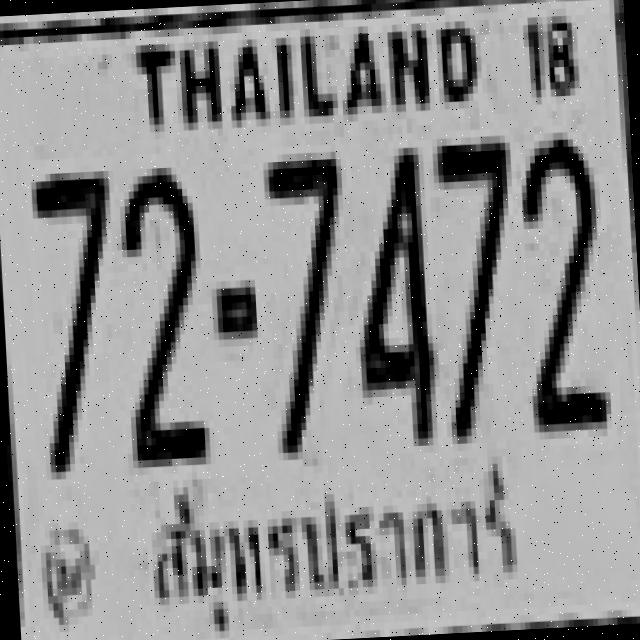2: (516, 128, 604, 429), (113, 163, 205, 450), (517, 132, 603, 404)
4: (345, 140, 433, 442)
7: (26, 164, 119, 466), (432, 132, 520, 434), (263, 152, 351, 453), (28, 164, 116, 371), (432, 132, 515, 339), (263, 152, 346, 358), (432, 136, 514, 314)
SamutPrakan: (139, 464, 529, 638)
